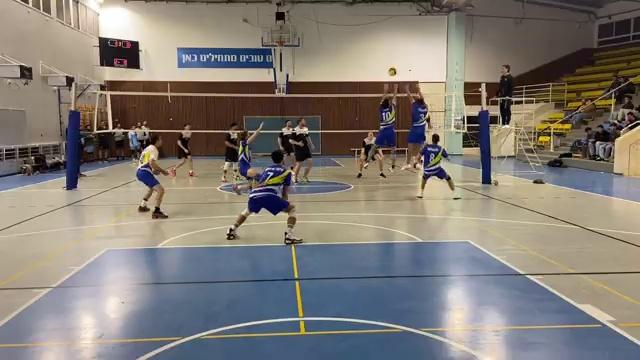ball: (386, 64, 399, 78)
